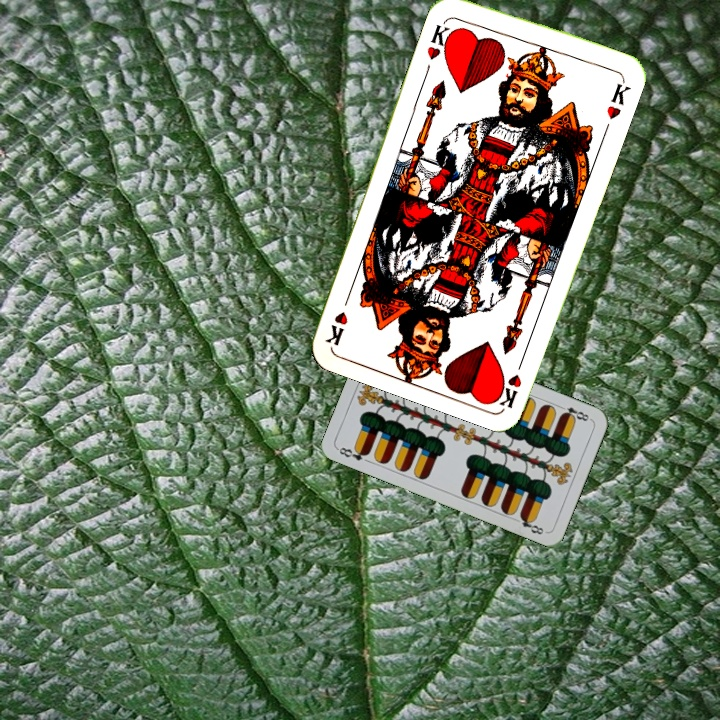E8: (555, 401, 593, 424), (334, 443, 372, 463)
HK: (492, 351, 528, 410), (423, 14, 458, 63)
